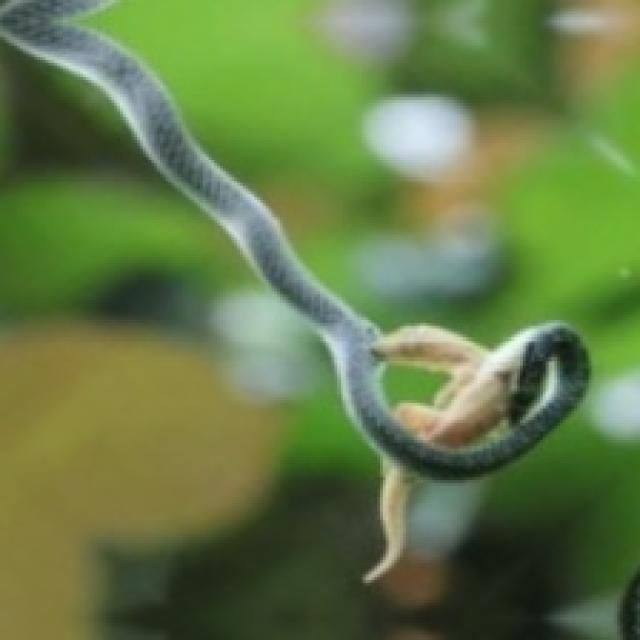paradise tree snake: (0, 0, 584, 582)
